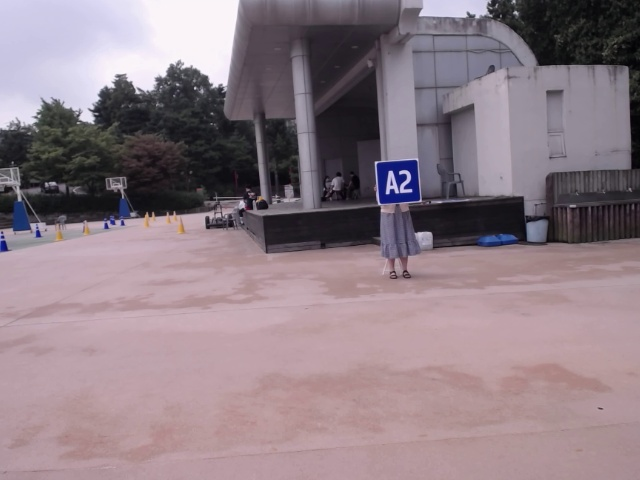delivery_a2: (376, 159, 422, 206)
